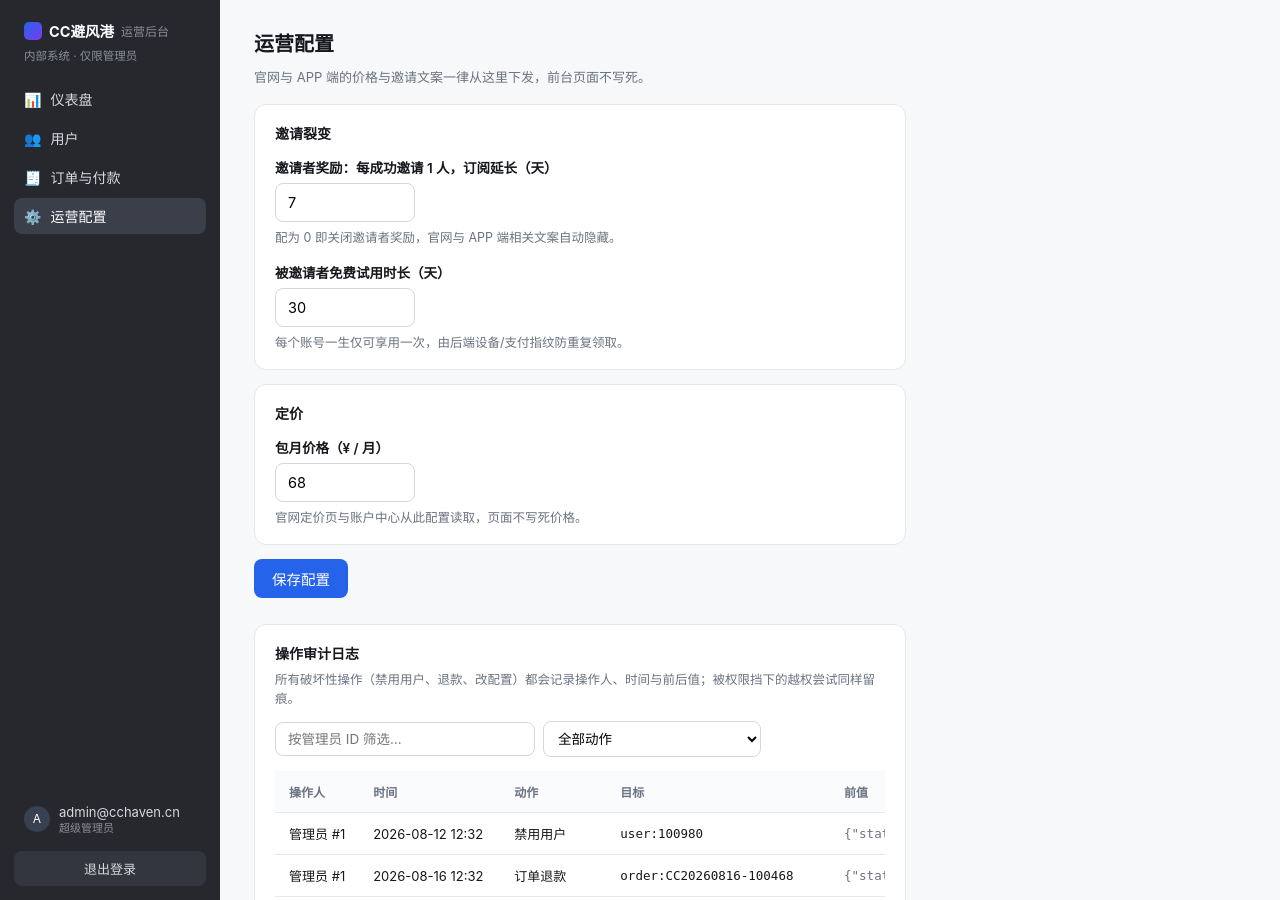
Test case: 运营配置页 › 奖励天数配 0 时说明前端文案会自动隐藏
Replace the text in the field labelled "邀请者奖励：每成功邀请 1 人，订阅延长（天）" with "0" at (345, 202), box [275,183,415,222]
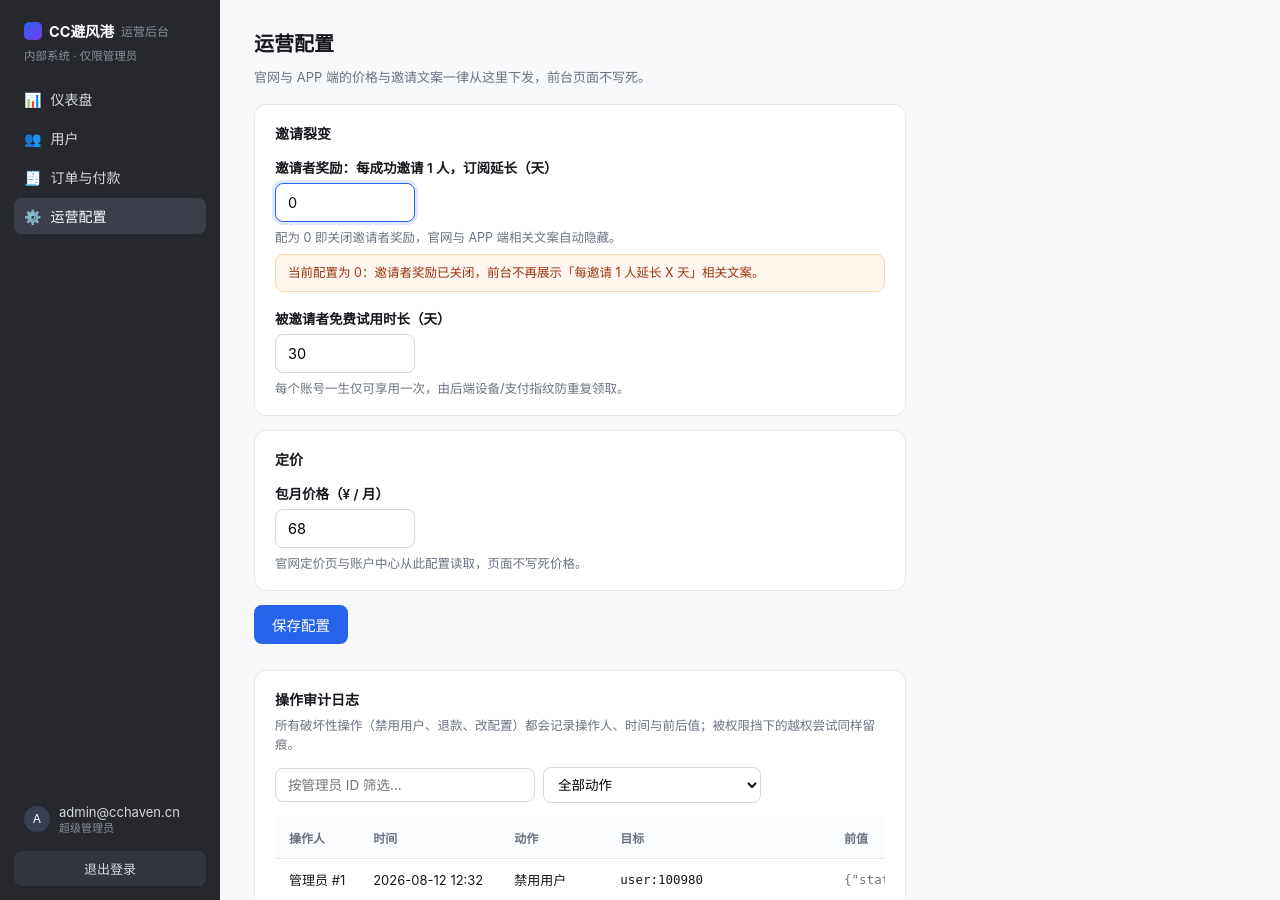
Expected: the text "当前配置为 0：邀请者奖励已关闭，前台不再展示「每邀请 1 人延长 X 天」相关文案。" is shown, [275,254,885,292]
Click the button "保存配置".
click(301, 624)  # box [254,605,348,644]
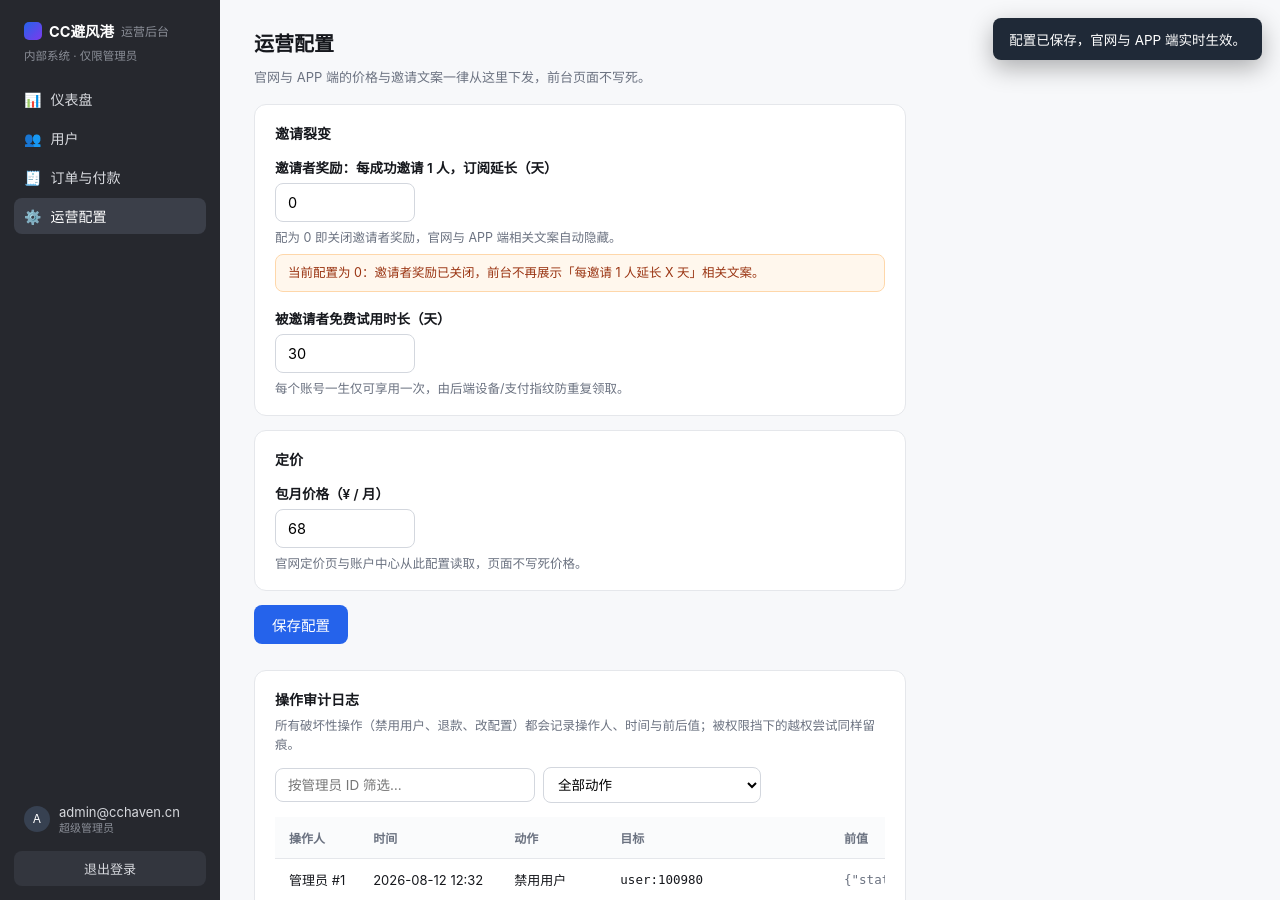
Expected: the text "配置已保存，官网与 APP 端实时生效。" is shown, [993,18,1262,60]
